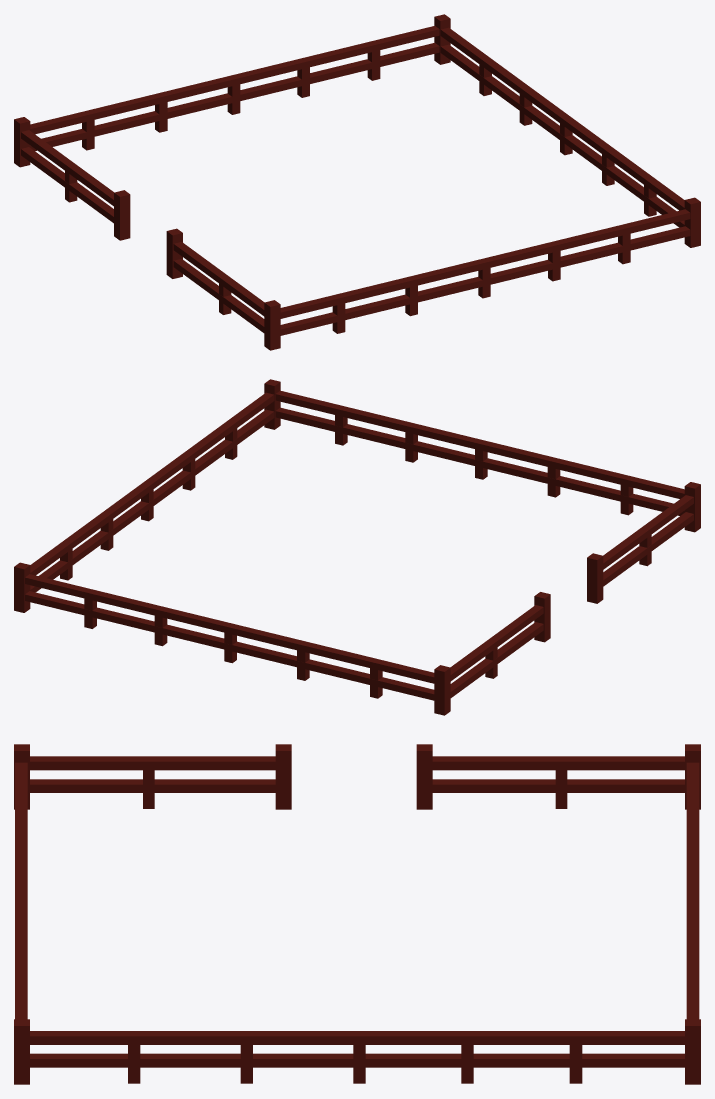
Rendered from fence4.fbx.
3 views of the same model, one above another, from view 1: azimuth 30°, elevation 25°; view 2: azimuth 150°, elevation 25°; view 3: azimuth 270°, elevation 25° (orthographic). The views are drawn at different scales.
Visible parts, largest first — view 1: fence4; view 2: fence4; view 3: fence4.
Boxes of the visible parts, bbox=[...] form: fence4: bbox=[14, 14, 700, 350]; fence4: bbox=[14, 379, 700, 715]; fence4: bbox=[14, 744, 700, 1084].
Bounding box in the file's own units: 1549 × 151 × 1597.
